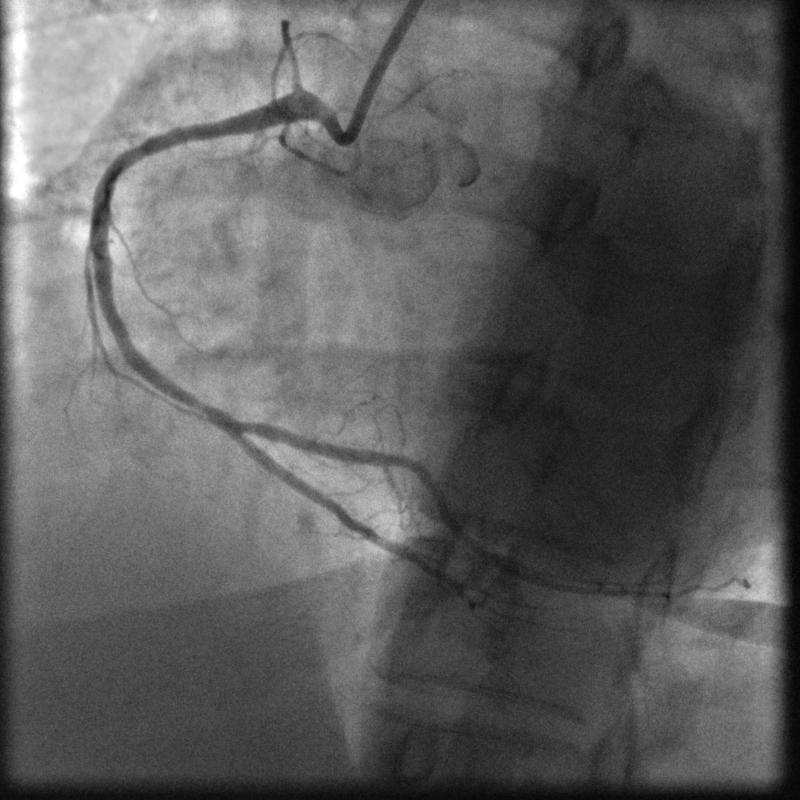Stenosis: (185, 379, 213, 428)
